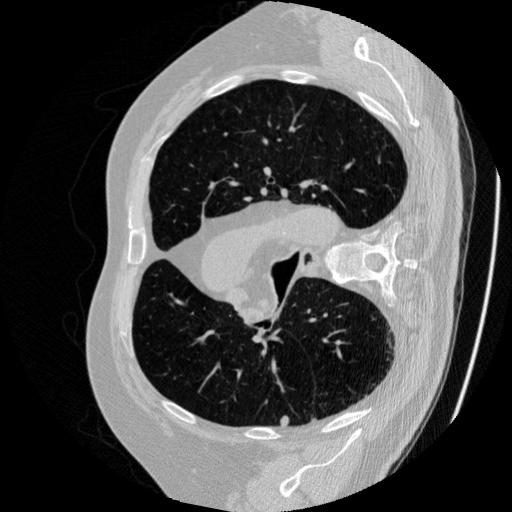nodule: (276, 414, 294, 432)
